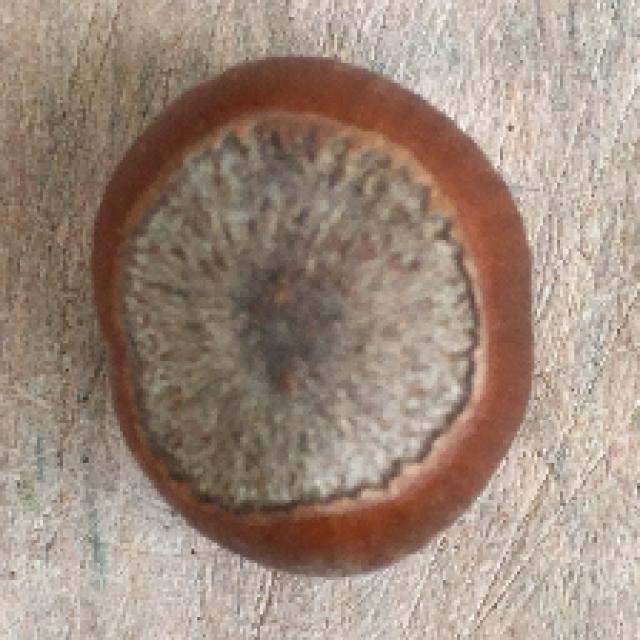qualityHazelnut: (86, 53, 533, 577)
